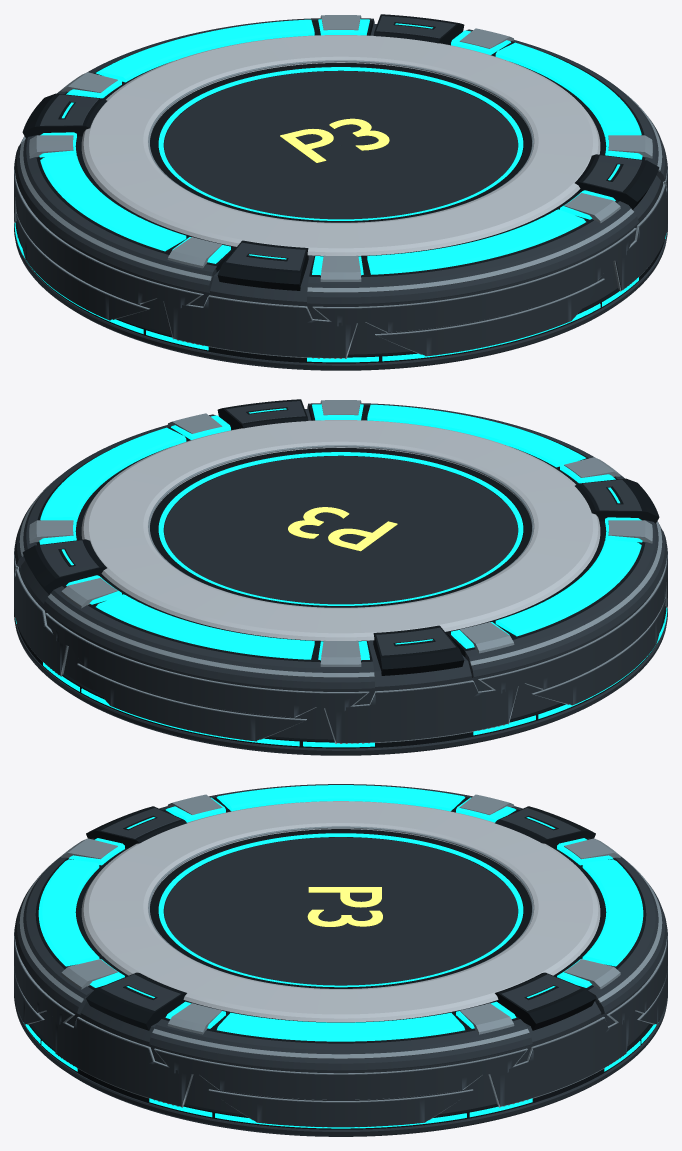
File: Striker.fbx
3 renders of one model, top to bottom at view 1: azimuth 30°, elevation 25°; view 2: azimuth 150°, elevation 25°; view 3: azimuth 270°, elevation 25°, orthographic.
Parts seen in each view (by area): view 1: SM_Puck_Striker_P3_HighDetail; view 2: SM_Puck_Striker_P3_HighDetail; view 3: SM_Puck_Striker_P3_HighDetail.
Boxes of the visible parts, box(x1,y1,x2,y2) form: SM_Puck_Striker_P3_HighDetail: box(14, 14, 667, 370); SM_Puck_Striker_P3_HighDetail: box(14, 399, 667, 755); SM_Puck_Striker_P3_HighDetail: box(14, 784, 667, 1136).
Bounding box in the file's own units: 82.7 × 82.7 × 13.4.
